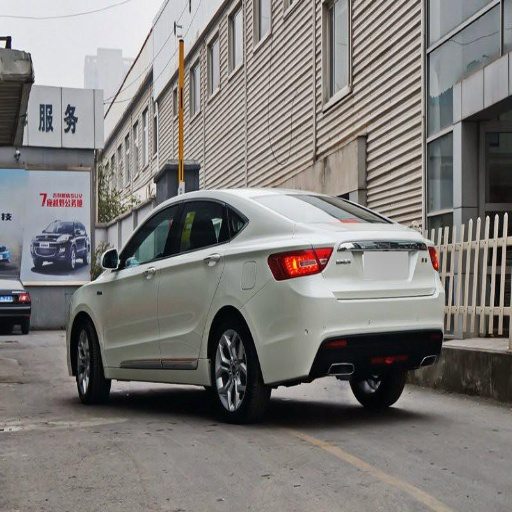back_bumper: (249, 276, 445, 383)
back_glass: (263, 194, 376, 223)
back_left_door: (159, 200, 229, 368)
tailgate: (308, 220, 428, 297)
